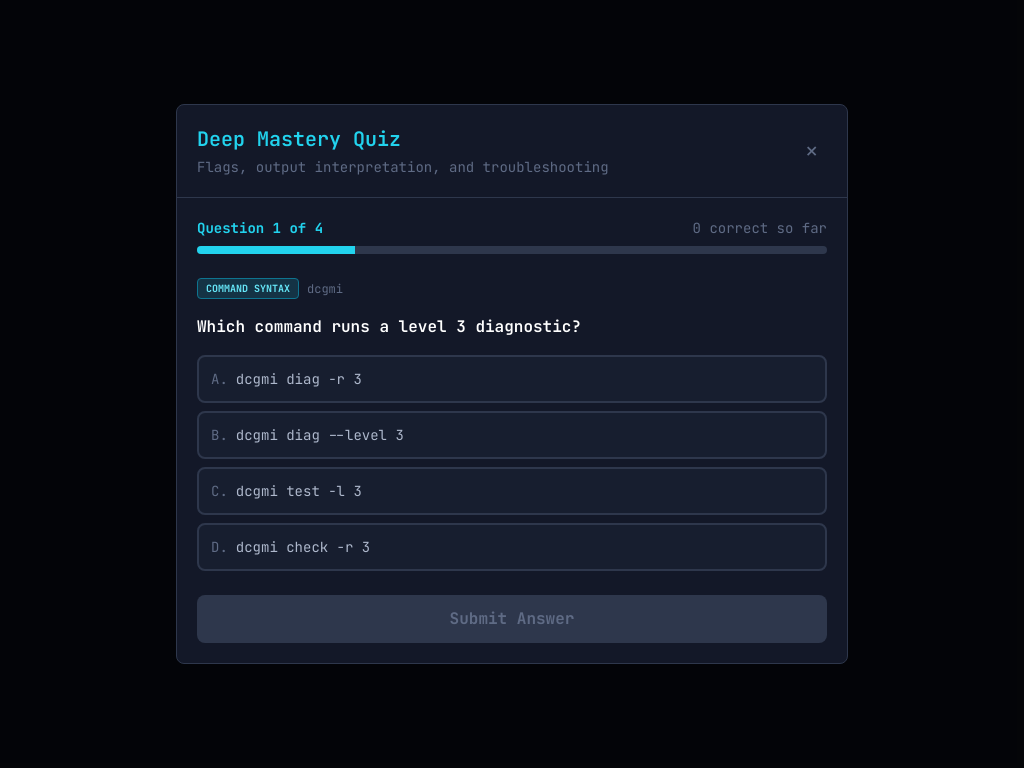
Test: ToolMasteryQuiz › shows explanation in feedback
What coordinates should you click on to do the following:
click the button "A.dcgmi diag -r 3"
I would click on:
 (299, 379)
Its box is [197,355,827,403].
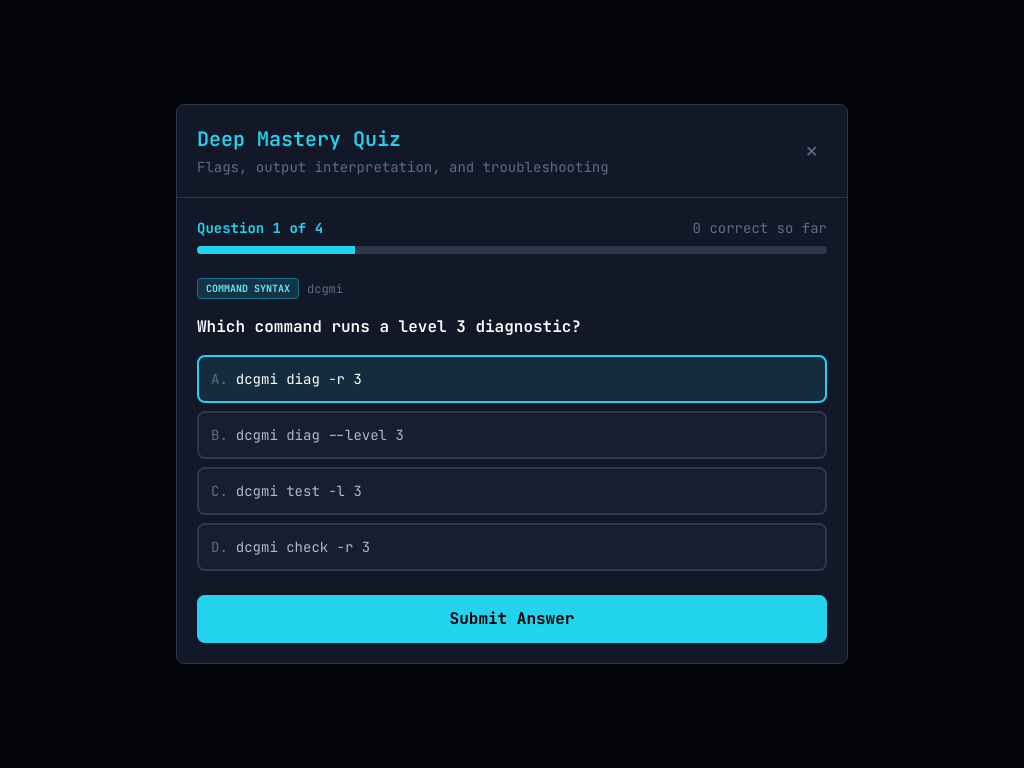
What coordinates should you click on to do the following:
click the button "Submit Answer"
I would click on:
 (512, 619)
Its box is [197,595,827,643].
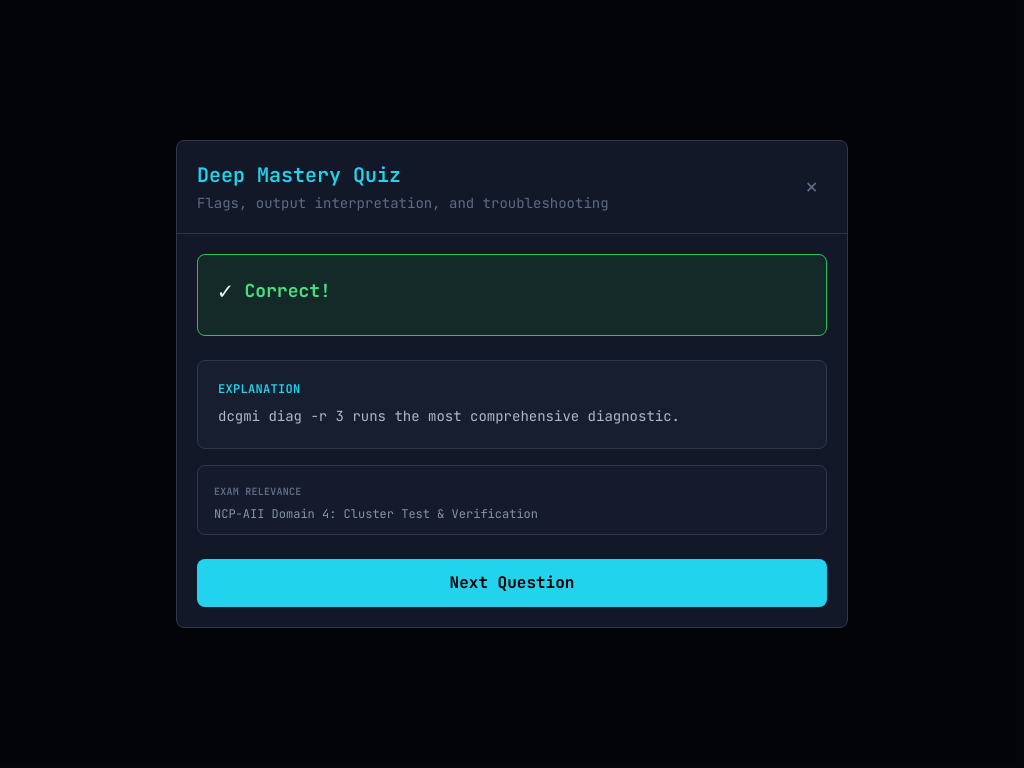
Check: the text "Explanation" is shown, box [218,381,300,397]
